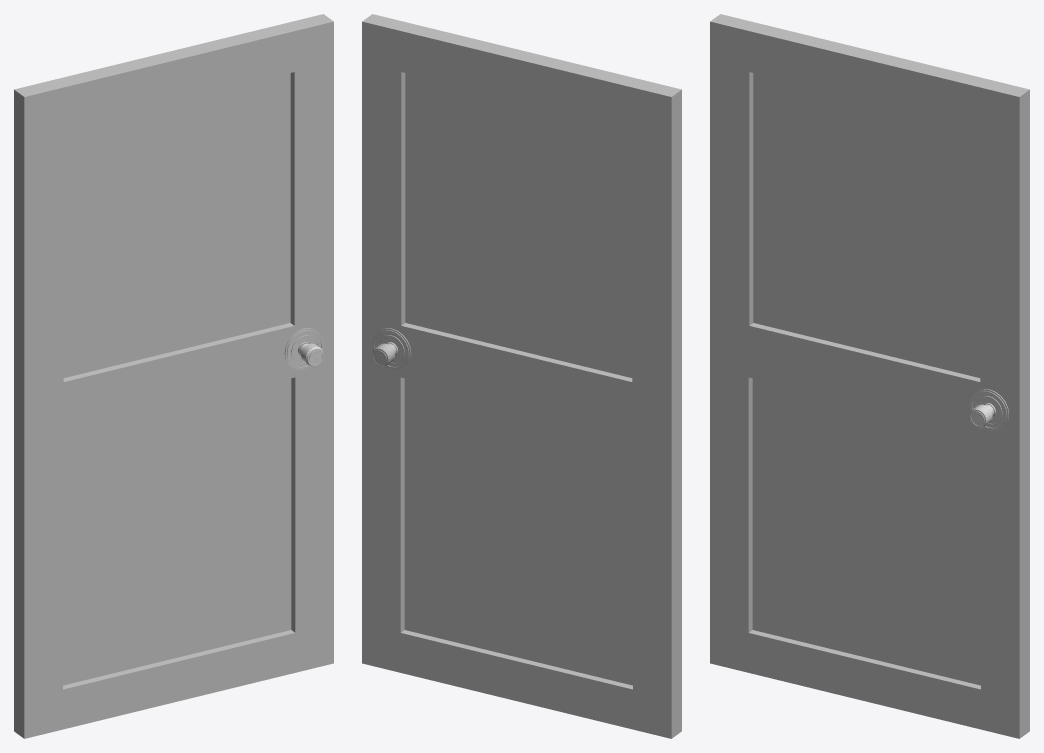
The model's file is Porta - OK.fbx.
The picture shows the model from 3 angles, left to right: view 1: azimuth 30°, elevation 25°; view 2: azimuth 150°, elevation 25°; view 3: azimuth 330°, elevation 25°; orthographic projection.
Visible parts, largest first — view 1: pCylinder51; view 2: pCylinder51; view 3: pCylinder51.
Part boxes in pixels (x1,y1,x2,y2): pCylinder51: (14, 14, 333, 738); pCylinder51: (362, 14, 681, 738); pCylinder51: (710, 14, 1029, 738).
Size of the model in its own units: 0.9959 by 1.97 by 0.1907.
